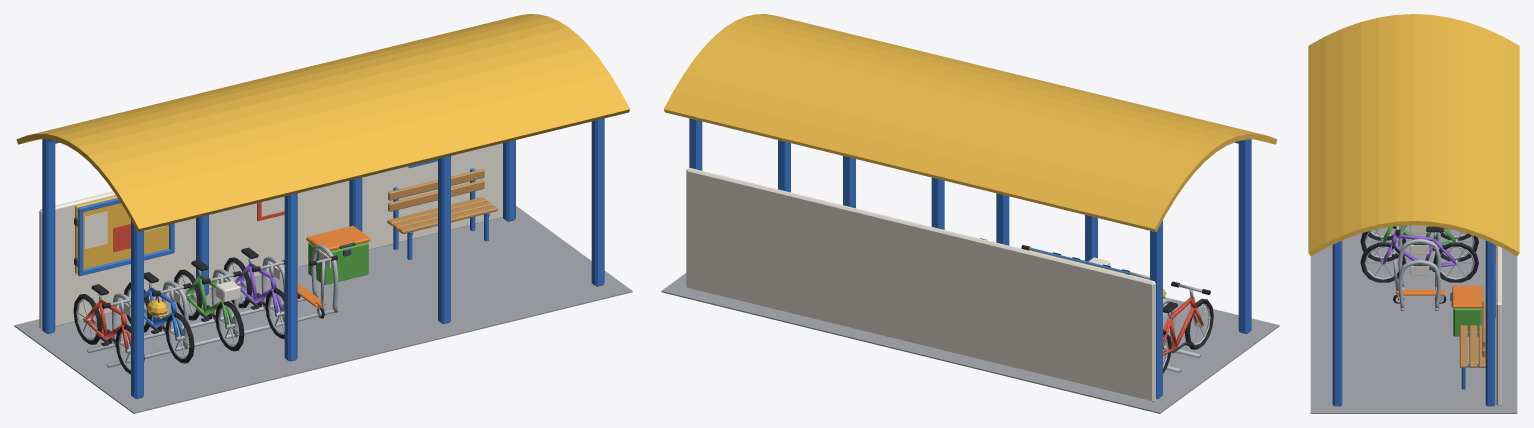
Rendered from school-bike-shed.glb.
The picture shows the model from 3 angles, left to right: view 1: azimuth 30°, elevation 25°; view 2: azimuth 150°, elevation 25°; view 3: azimuth 270°, elevation 25°; orthographic projection. The views are drawn at different scales.
Parts seen in each view (by area): view 1: Shed_Roof, Shed_Slab, Shed_BackWall, Bench, Shed_Post_-12_4, Notice_Board, Shed_Post_-4_-4, Shed_Post_12_-4, Shed_Post_-12_-4, Shed_Post_4_-4, StorageBox_Body, Door (+8 smaller); view 2: Shed_Roof, Shed_BackWall, Shed_Slab, Shed_Post_-12_-4, Shed_Post_-12_4, Shed_Post_4_-4, Shed_Post_12_4, Shed_Post_-4_4, Shed_Post_4_4, Shed_Post_12_-4, Shed_Post_-4_-4; view 3: Shed_Roof, Shed_Slab, Shed_Post_12_4, Shed_Post_12_-4, Bench, Shed_BackWall, Lid, StorageBox_Body, Rack_Hoop_4, Bike_Purple_TireRear, Rack_Hoop_3, Bike_Purple_TireFront (+2 smaller).
Boxes of the visible parts, x1,y1,x2,y2 form: Shed_Roof: (16,14,630,231); Shed_Slab: (14,206,632,413); Shed_BackWall: (39,143,502,329); Bench: (387,169,497,233); Shed_Post_-12_4: (42,139,55,333); Notice_Board: (75,195,168,274); Shed_Post_-4_-4: (284,193,297,361); Shed_Post_12_-4: (591,118,604,286); Shed_Post_-12_-4: (131,220,143,398); Shed_Post_4_-4: (438,156,450,323); StorageBox_Body: (308,242,368,284); Door: (78,198,174,276); Shed_Roof: (663,14,1277,231); Shed_BackWall: (686,168,1155,401); Shed_Slab: (661,273,1279,413); Shed_Post_-12_-4: (1238,139,1251,333); Shed_Post_-12_4: (1150,220,1162,398); Shed_Post_4_-4: (931,177,944,229); Shed_Post_12_4: (689,118,702,170); Shed_Post_-4_4: (996,193,1009,245); Shed_Post_4_4: (843,156,855,208); Shed_Post_12_-4: (778,140,790,192); Shed_Post_-4_-4: (1085,215,1097,261); Shed_Roof: (1308,14,1519,255); Shed_Slab: (1310,225,1517,413); Shed_Post_12_4: (1485,240,1495,406); Shed_Post_12_-4: (1332,240,1342,406); Bench: (1459,300,1485,367); Shed_BackWall: (1496,245,1501,405); Lid: (1452,285,1482,308); StorageBox_Body: (1453,308,1481,336); Rack_Hoop_4: (1398,259,1440,309); Bike_Purple_TireRear: (1433,242,1478,282); Rack_Hoop_3: (1398,238,1440,287); Bike_Purple_TireFront: (1360,242,1406,282).
Size of the model in its own units: 26 by 11.05 by 11.06.
